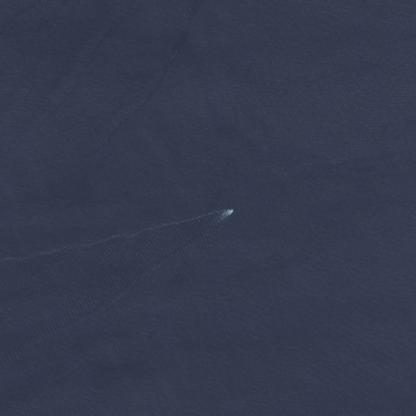ship: (208, 205, 216, 212)
